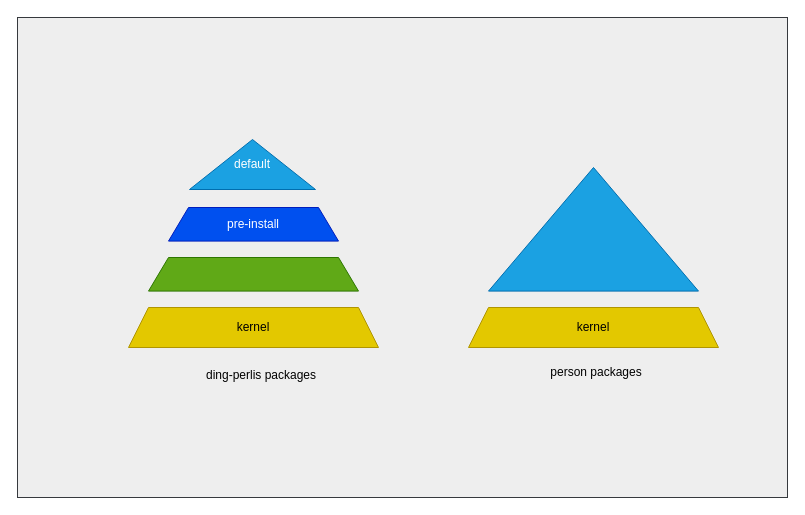
Some shapes in this 805 by 515 pixel diagram are drawn without their labels. The shapes that lost their labels are listed below. From the top down, each one's centre as x and y in pixels, then its label:
pixel 593 228: person
pixel 253 273: system
